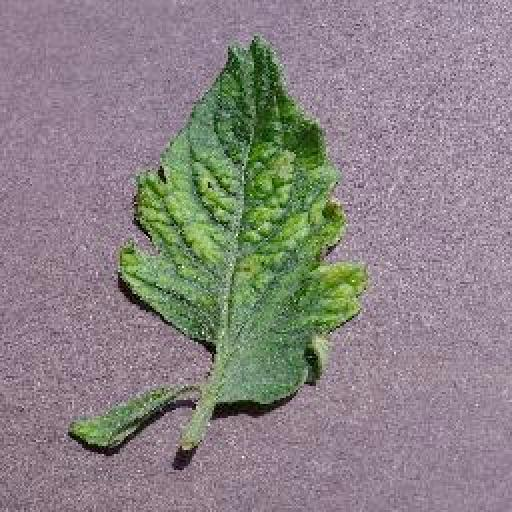disease_tomato: (110, 32, 378, 404), (59, 384, 185, 454)
